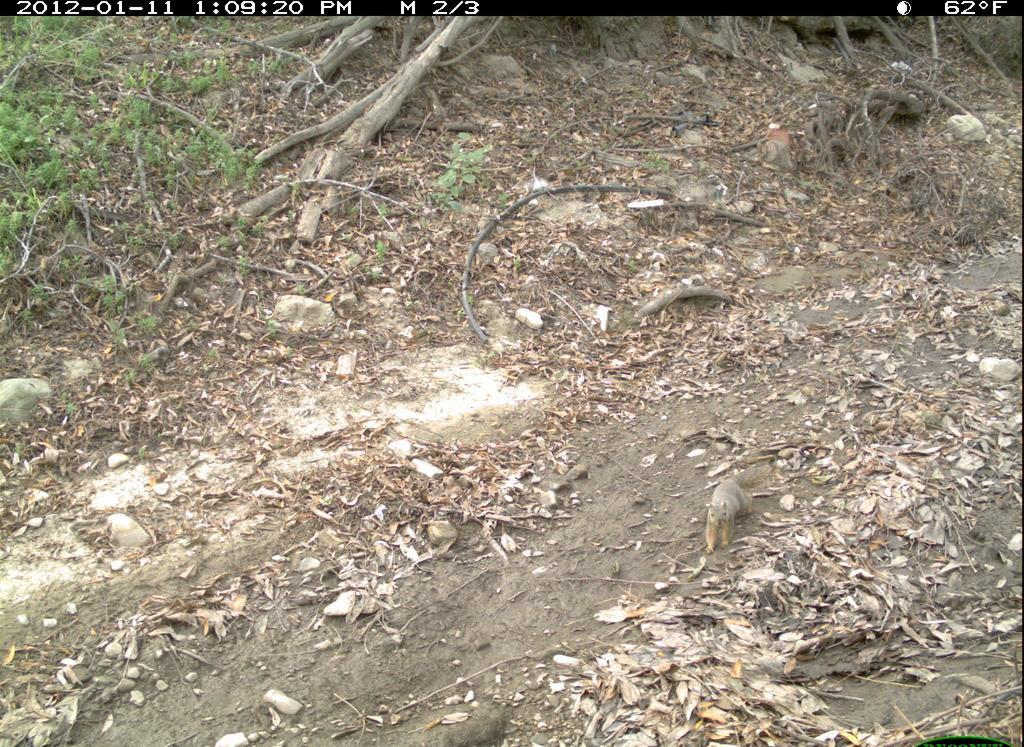squirrel: (690, 438, 801, 575)
